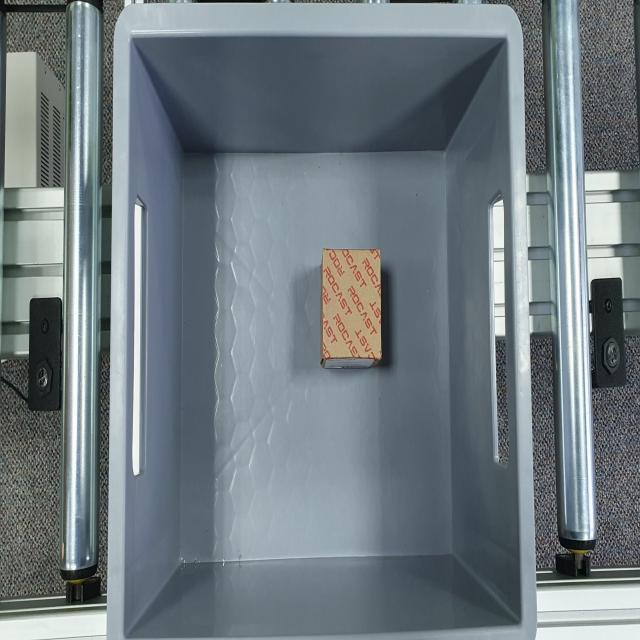box: (321, 245, 385, 363)
